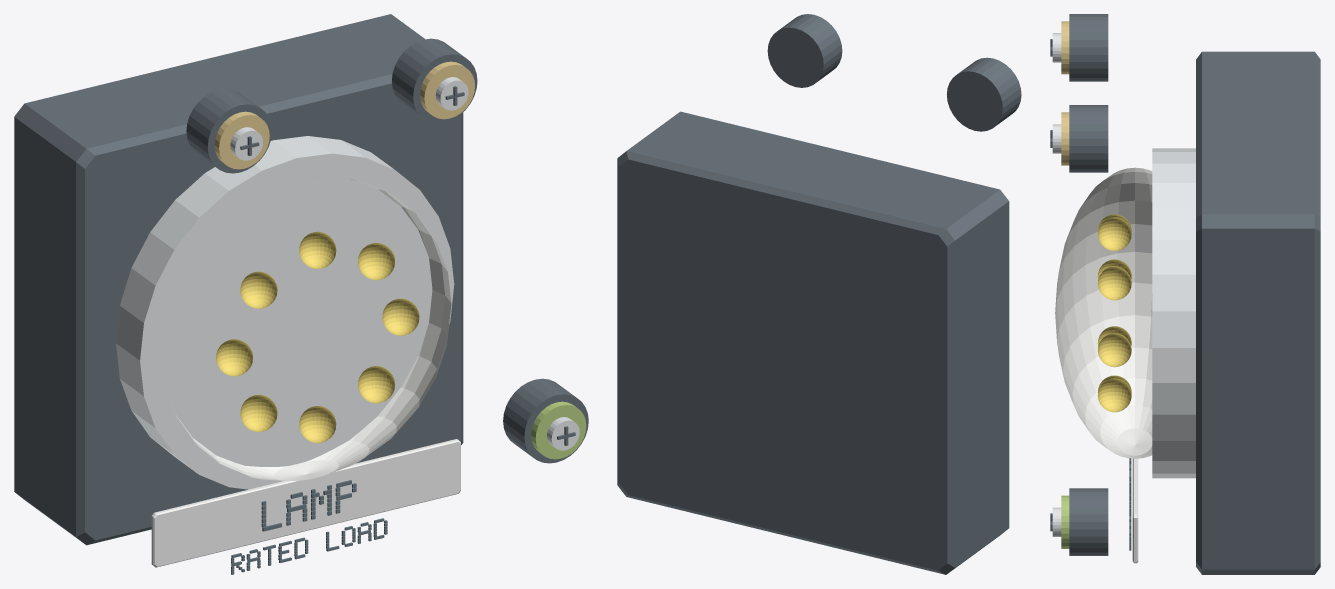
Rendered from ledLamp.glb.
3 renders of one model, left to right at view 1: azimuth 30°, elevation 25°; view 2: azimuth 150°, elevation 25°; view 3: azimuth 270°, elevation 25°, orthographic. The views are drawn at different scales.
Visible parts, largest first — view 1: ledLamp-detailed; view 2: ledLamp-detailed; view 3: ledLamp-detailed.
Boxes of the visible parts, left/top/right/bottom form: ledLamp-detailed: left=14, top=14, right=588, bottom=574; ledLamp-detailed: left=617, top=14, right=1021, bottom=574; ledLamp-detailed: left=1050, top=14, right=1320, bottom=574.
Bounding box in the file's own units: 2.14 × 2.33 × 1.25.
